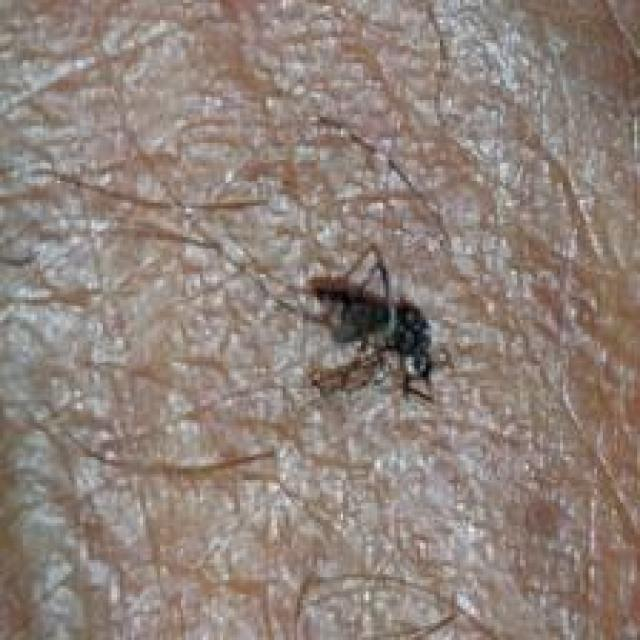Aedes albopictus: (291, 242, 443, 404)
